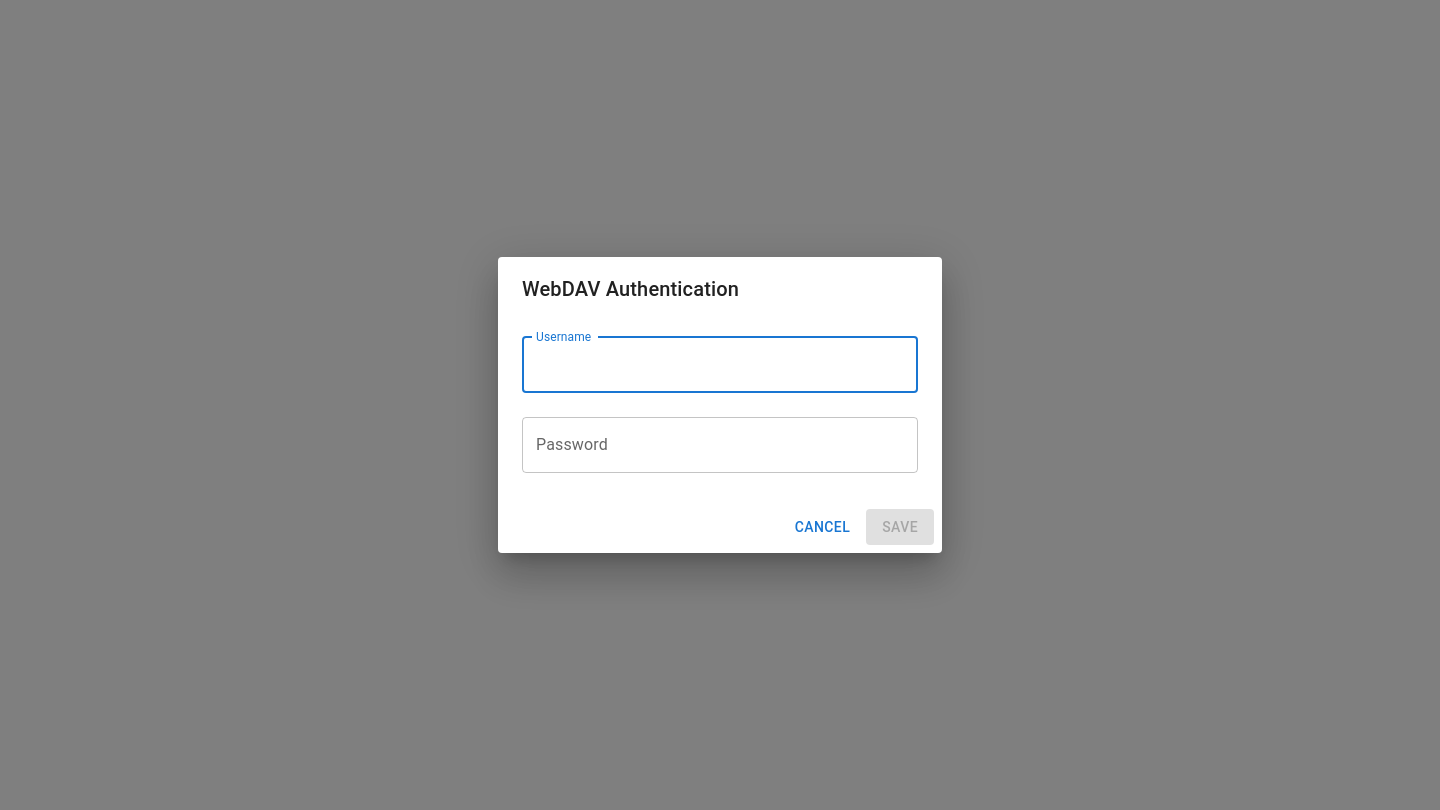
Test: disables Save until a username is entered
expect the button "Save" is disabled: met, box [866,509,934,545]
Type "user" into the field labelled "Username" at (720, 365), box [522,337,918,393]
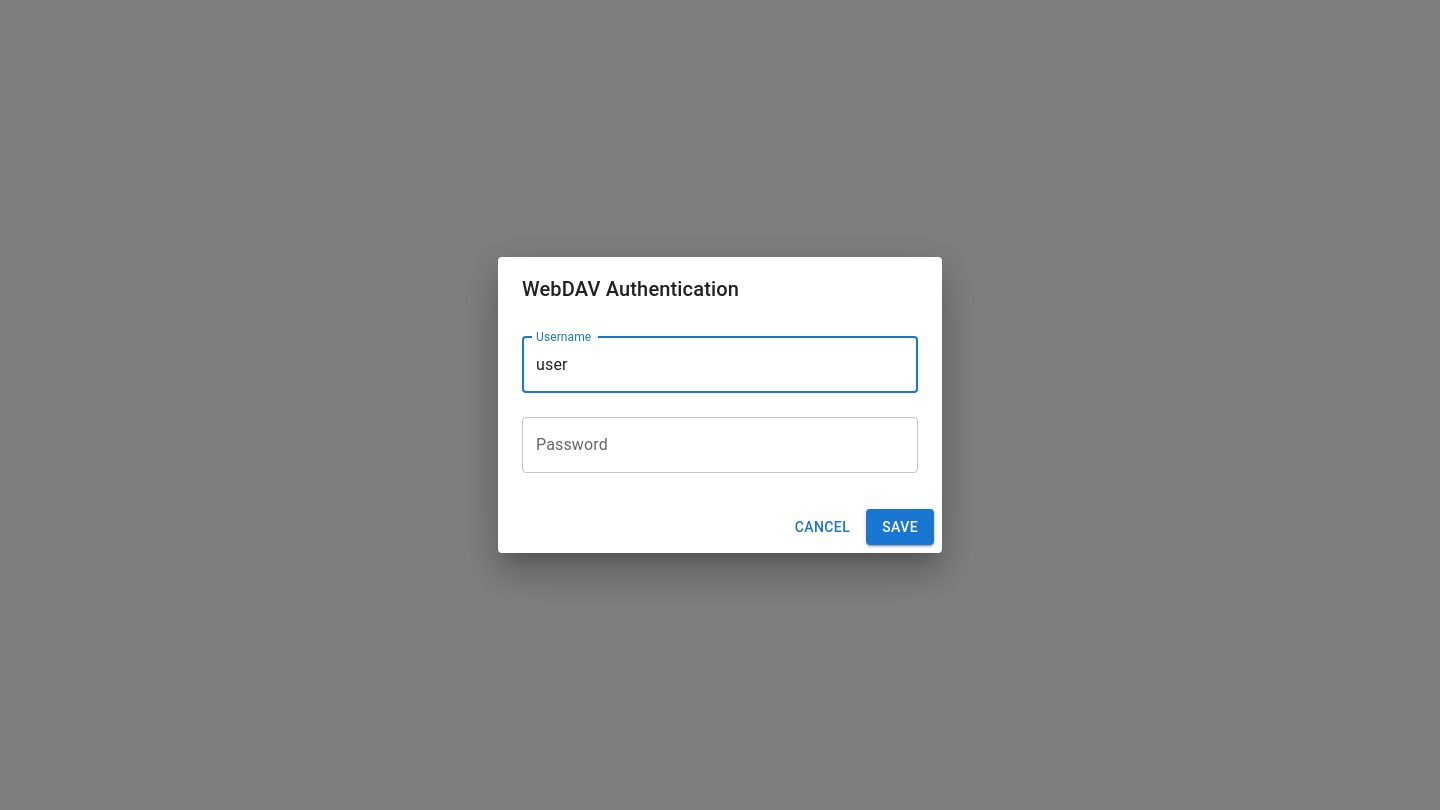
expect the button "Save" is enabled: met, box [866,509,934,545]
